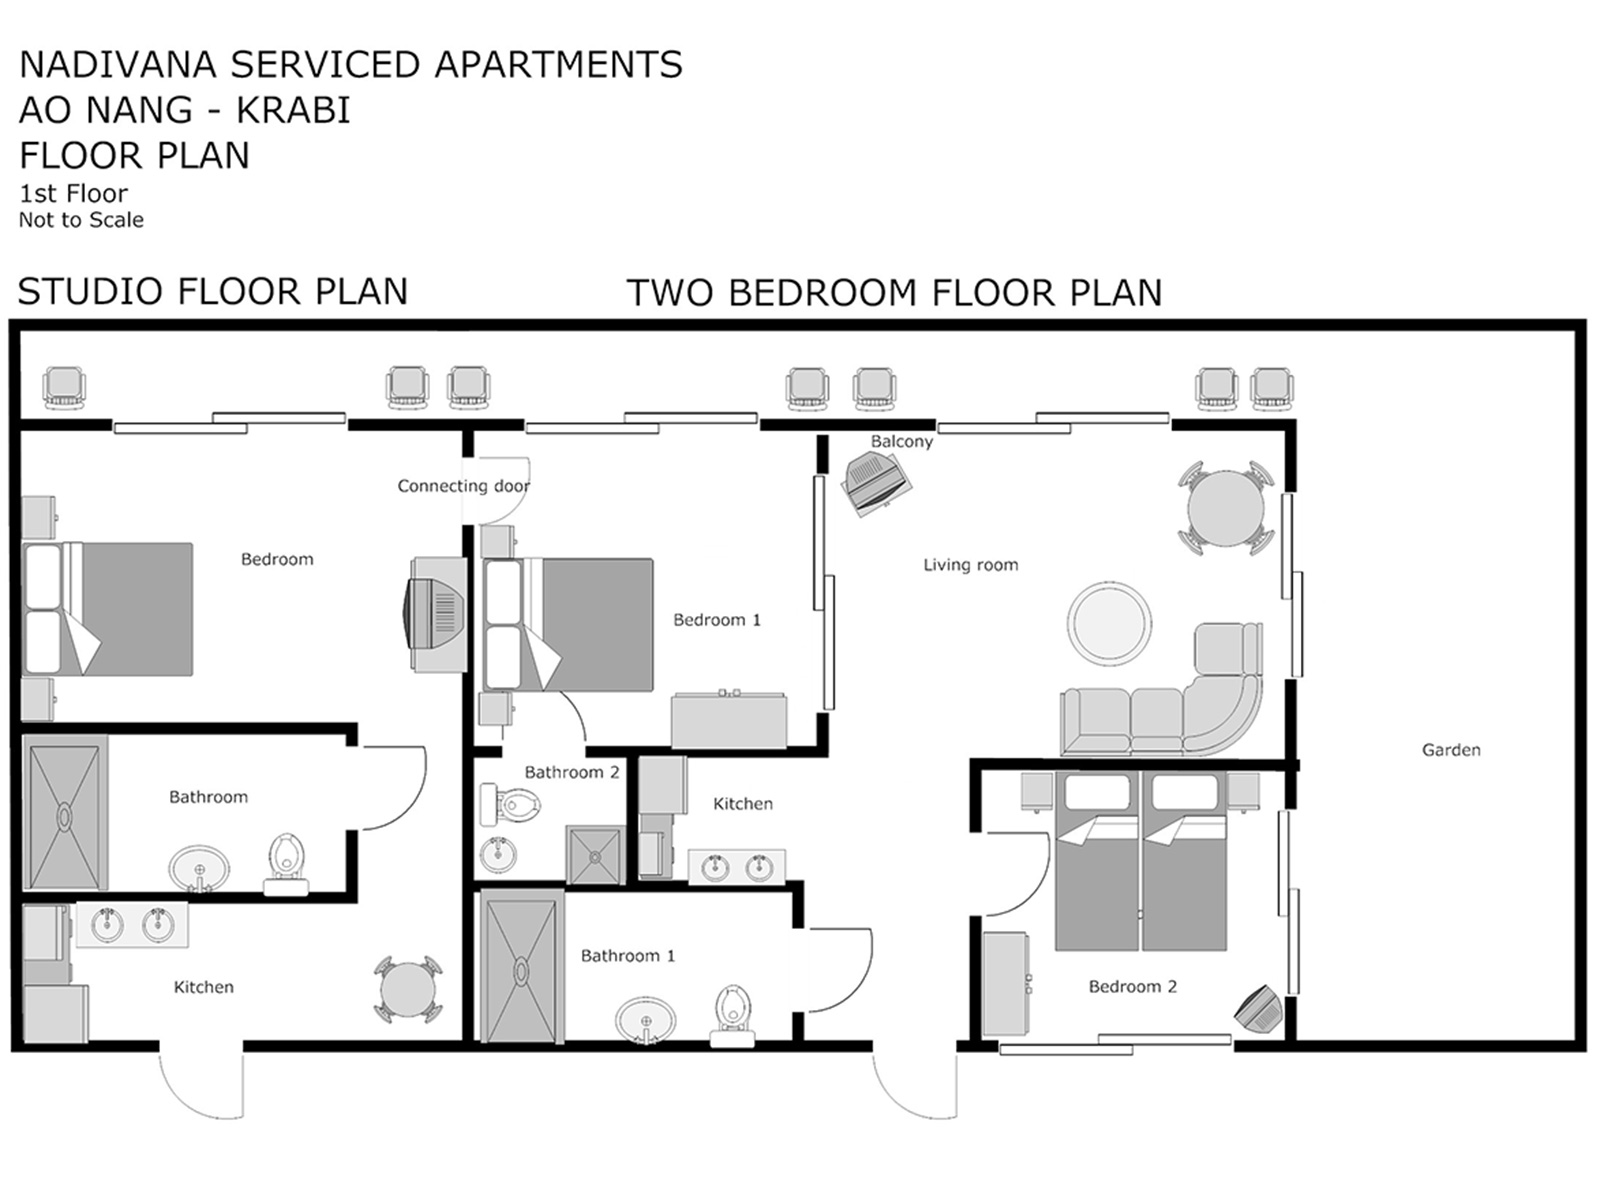door: (149, 1051, 256, 1134), (986, 821, 1058, 929), (806, 921, 884, 1013), (871, 1059, 969, 1127), (367, 740, 433, 831)
